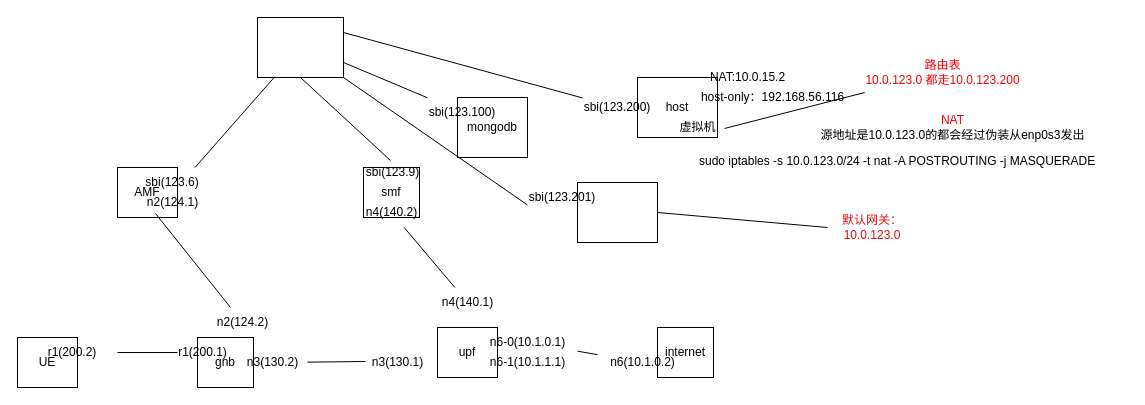
Some shapes in this 1145 by 405 pixel diagram are drawn without their labels. The centre of each missing label's shape, as x and y in pixels:
"br1" belongs at [300,47].
"web" belongs at [617,212].
